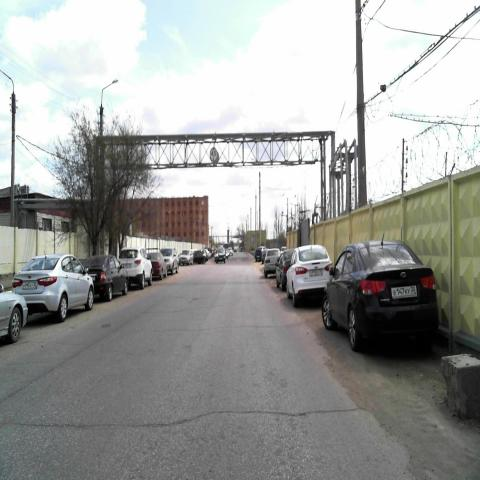3_13: (209, 147, 217, 161)
